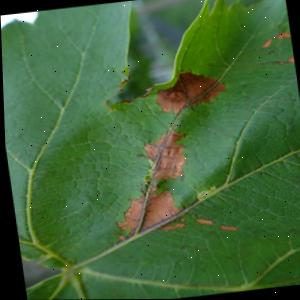Folha: (0, 0, 300, 300)
Fungo: (98, 124, 198, 241), (149, 69, 226, 116), (152, 87, 187, 116), (256, 31, 291, 49), (253, 56, 294, 70), (192, 186, 216, 200), (156, 222, 183, 232), (214, 224, 235, 234), (191, 217, 211, 227), (272, 31, 291, 41), (257, 38, 272, 49), (283, 56, 294, 67), (282, 228, 294, 234), (175, 217, 183, 223), (298, 226, 300, 230)
